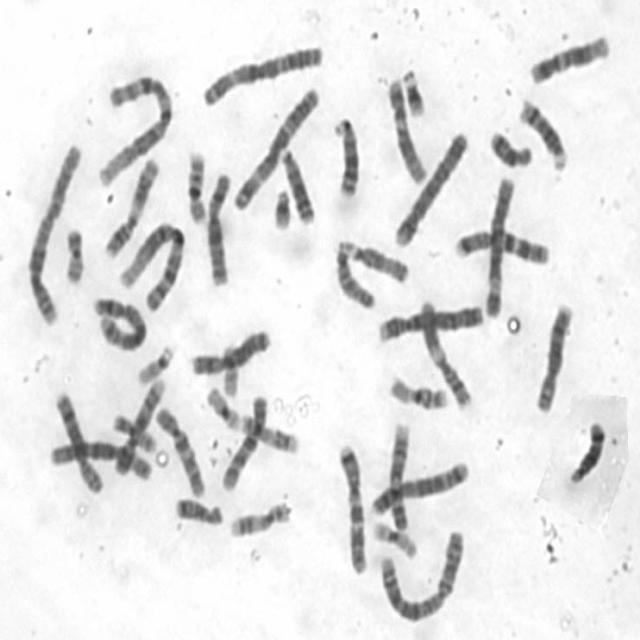A1: (93, 68, 176, 188), (113, 213, 188, 314)
A2: (22, 136, 84, 327), (375, 523, 467, 624)
A3: (230, 80, 324, 214), (198, 38, 328, 109)
B4: (390, 124, 471, 250), (376, 301, 486, 344)
B5: (367, 456, 470, 520), (90, 292, 149, 354)
C10: (152, 401, 206, 499), (219, 389, 270, 491)
C11: (417, 294, 476, 410), (99, 150, 161, 259)
C12: (383, 71, 430, 186), (524, 27, 612, 88)
C6: (482, 170, 518, 319), (46, 434, 154, 480)
C7: (333, 437, 370, 576), (449, 222, 554, 268)
C8: (50, 386, 105, 496), (531, 297, 577, 415)
C9: (110, 376, 168, 477), (386, 418, 413, 532)
D13: (277, 143, 316, 226), (328, 110, 362, 201)
D14: (516, 92, 572, 173), (565, 414, 608, 488)
D15: (339, 235, 411, 286), (330, 237, 377, 312)
E16: (384, 369, 450, 412), (184, 147, 208, 225)
E17: (225, 493, 295, 540), (236, 408, 302, 456)
E18: (486, 123, 536, 171), (173, 493, 225, 528)
F19: (369, 515, 420, 561), (203, 380, 244, 432)
F20: (109, 411, 157, 453), (60, 221, 86, 287)
G21: (398, 61, 428, 119), (269, 180, 293, 233)
G22: (134, 338, 177, 386), (218, 338, 242, 397)
X: (187, 323, 274, 378), (202, 164, 234, 288)
